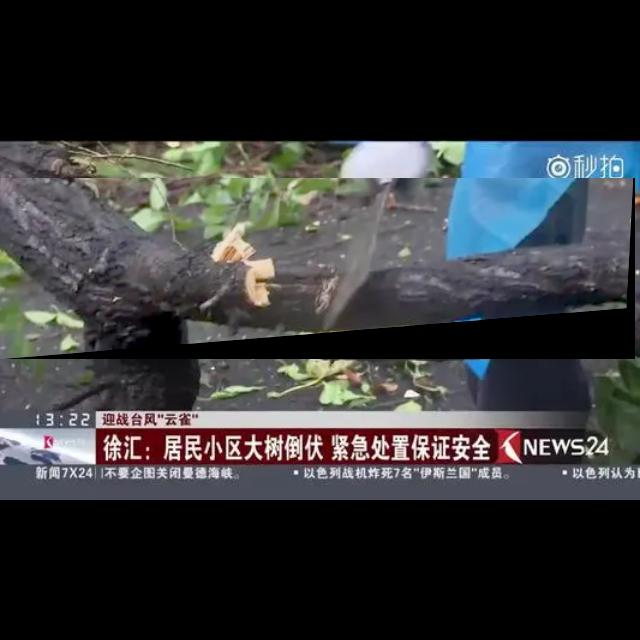Fallen Tree: (0, 178, 636, 360)
